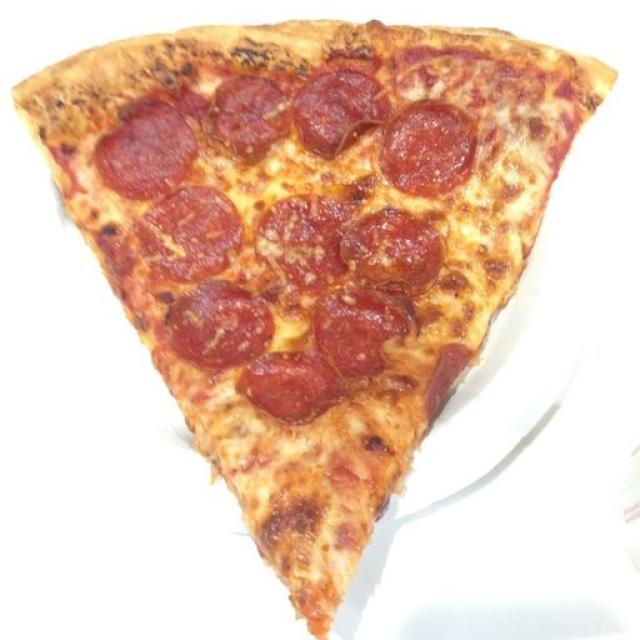Pepperoni: (93, 102, 196, 202), (168, 280, 271, 370), (345, 208, 442, 300), (142, 185, 236, 276), (381, 106, 477, 195), (317, 297, 414, 381), (258, 197, 352, 282), (297, 67, 389, 152), (245, 356, 342, 422), (225, 76, 287, 148), (423, 344, 469, 414), (128, 87, 205, 113)
Pizza: (10, 20, 619, 635)
